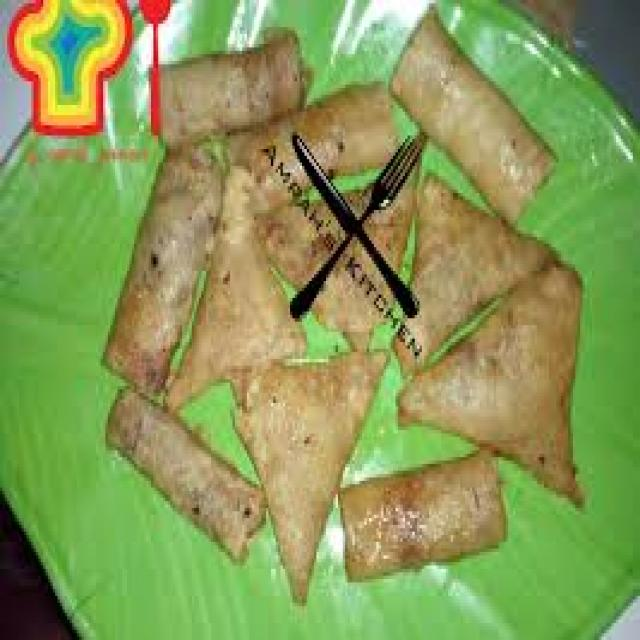Samosa: (214, 166, 576, 488)
Spring Rolls: (108, 37, 542, 196), (100, 136, 252, 562), (336, 447, 516, 565)
